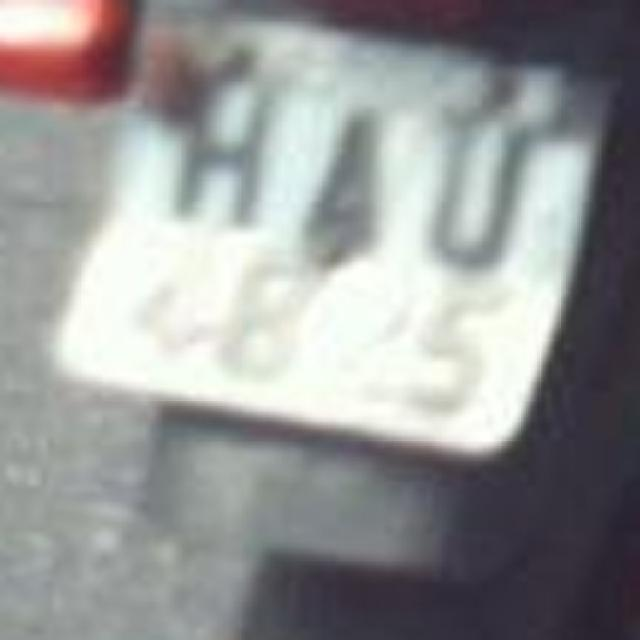4: (115, 232, 220, 372)
5: (372, 271, 508, 424)
B: (280, 88, 408, 280), (208, 240, 340, 400)
H: (156, 69, 284, 236)
U: (408, 100, 544, 288)
